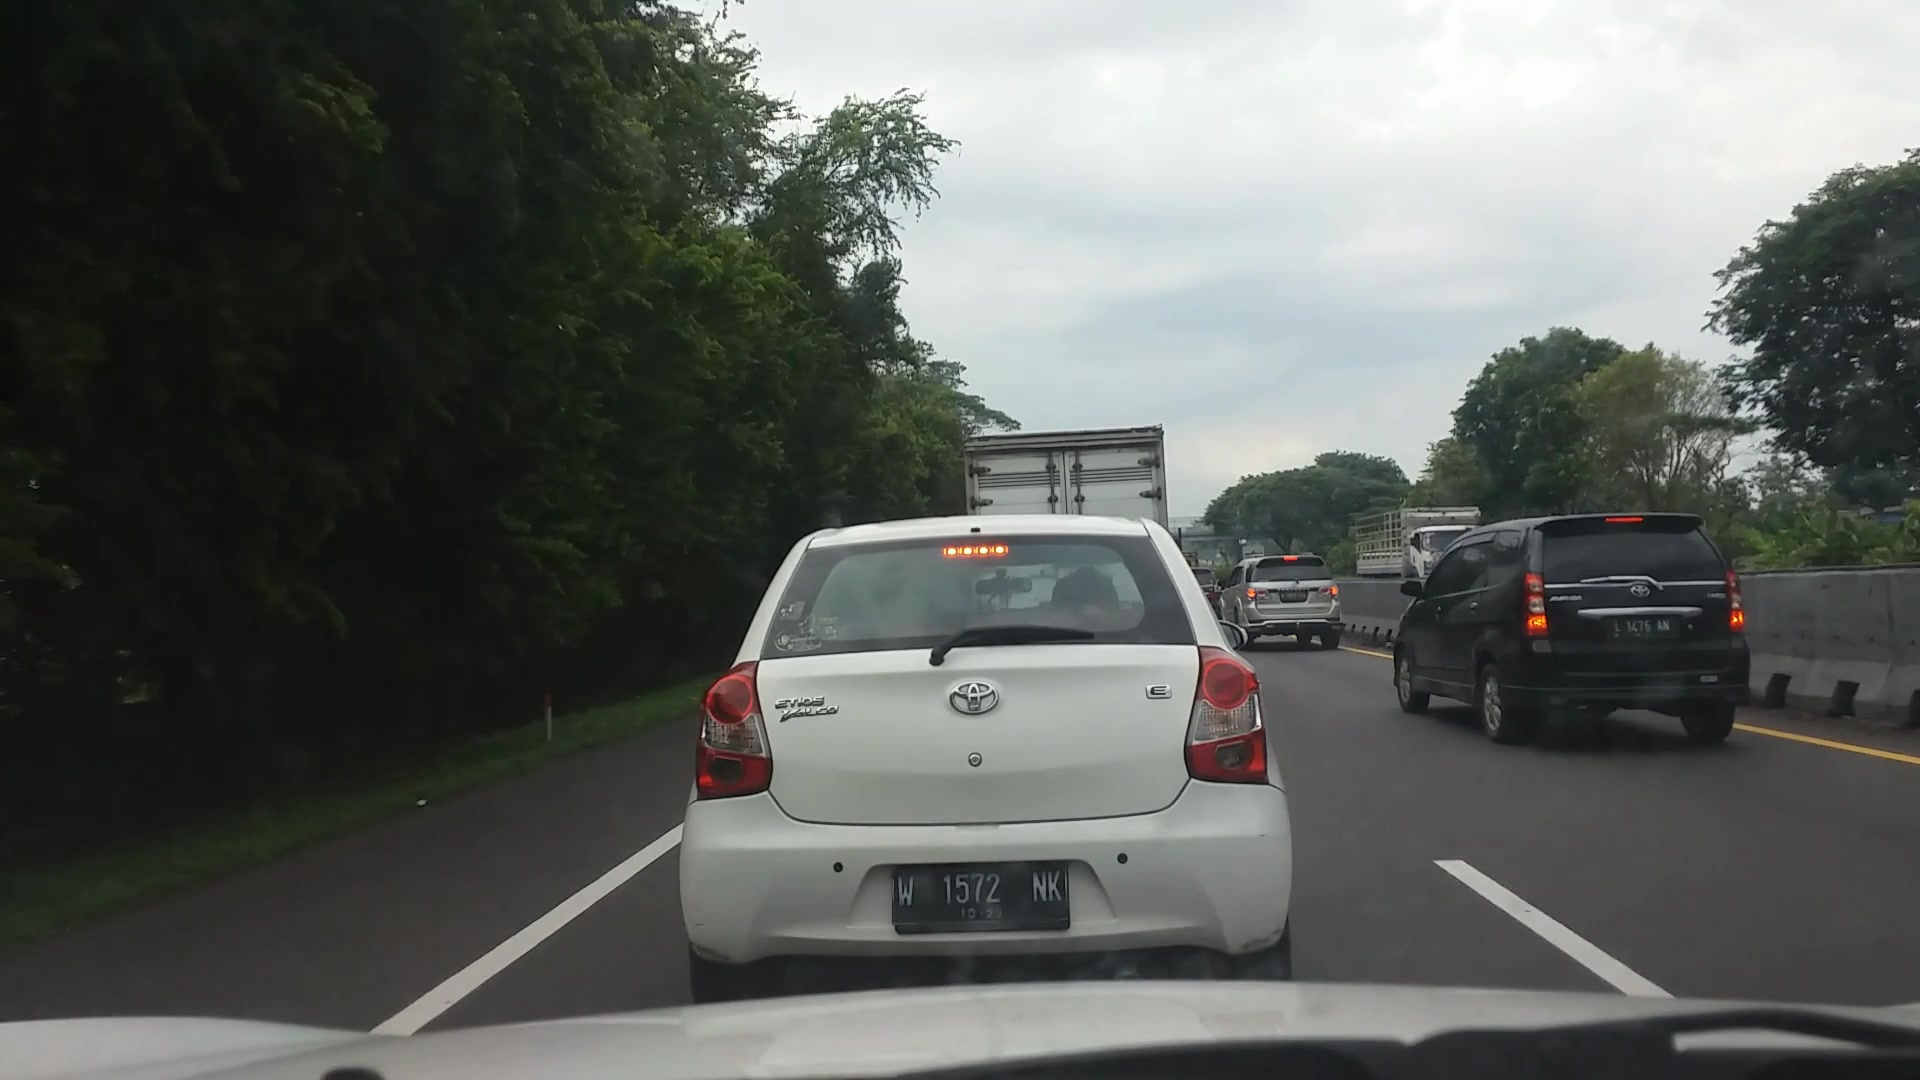plate_positive: (891, 862, 1072, 930)
